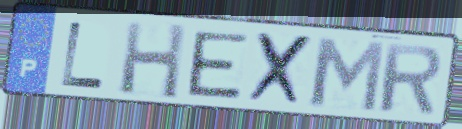E: (186, 29, 252, 102)
H: (117, 19, 189, 102)
L: (57, 19, 109, 92)
M: (308, 34, 388, 115)
R: (377, 40, 445, 116)
X: (245, 30, 318, 109)
